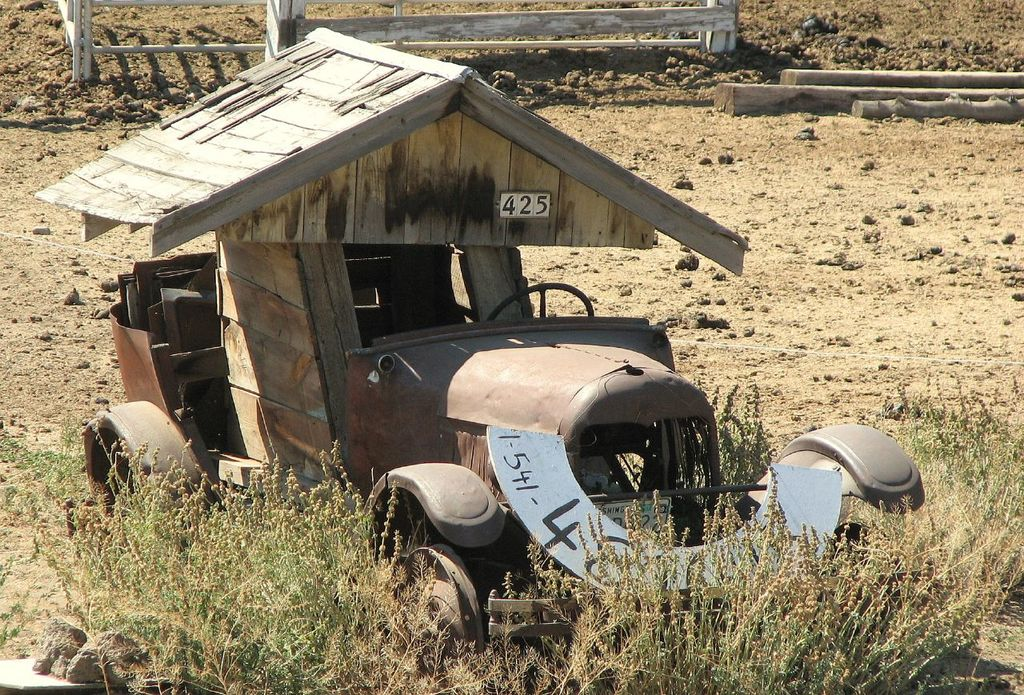mobil: (115, 264, 917, 626)
